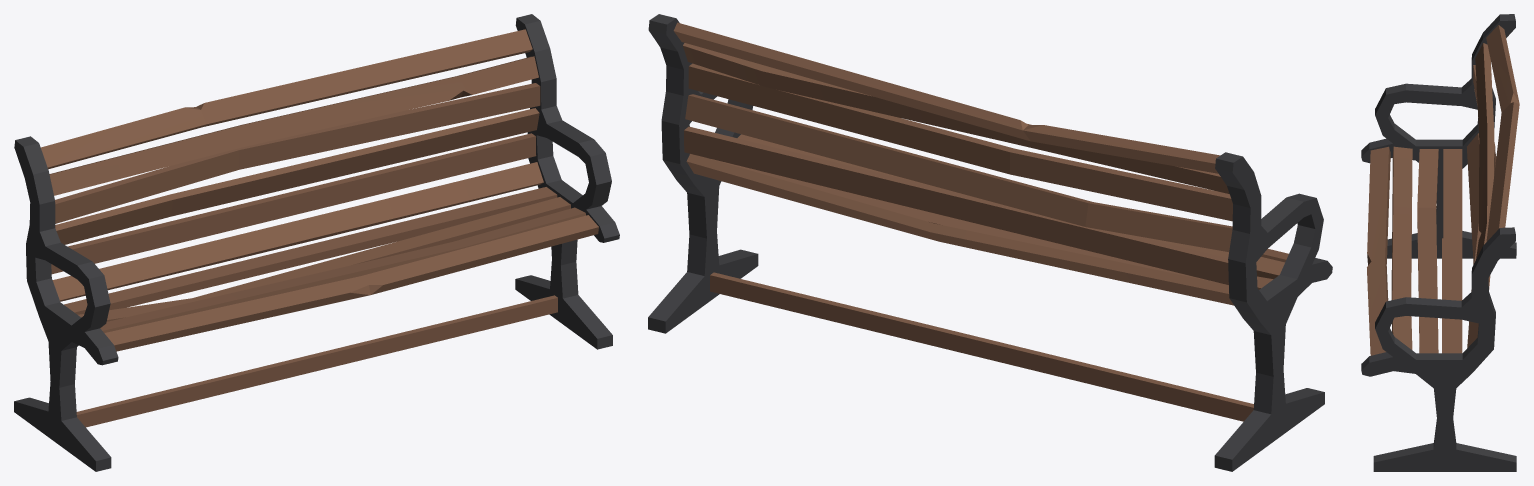
File: SM_Prop_ParkBench_01_361.obj
3 renders of one model, left to right at view 1: azimuth 30°, elevation 25°; view 2: azimuth 150°, elevation 25°; view 3: azimuth 270°, elevation 25°, orthographic. The views are drawn at different scales.
Visible parts, largest first — view 1: SM_Prop_ParkBench_01_0; view 2: SM_Prop_ParkBench_01_0; view 3: SM_Prop_ParkBench_01_0.
Boxes of the visible parts, box(x1,y1,x2,y2) form: SM_Prop_ParkBench_01_0: box(14, 14, 619, 471); SM_Prop_ParkBench_01_0: box(648, 14, 1332, 471); SM_Prop_ParkBench_01_0: box(1361, 14, 1519, 471).
Size of the model in its own units: 2.08 by 1.05 by 0.6326.
1 material, 1 textured.
